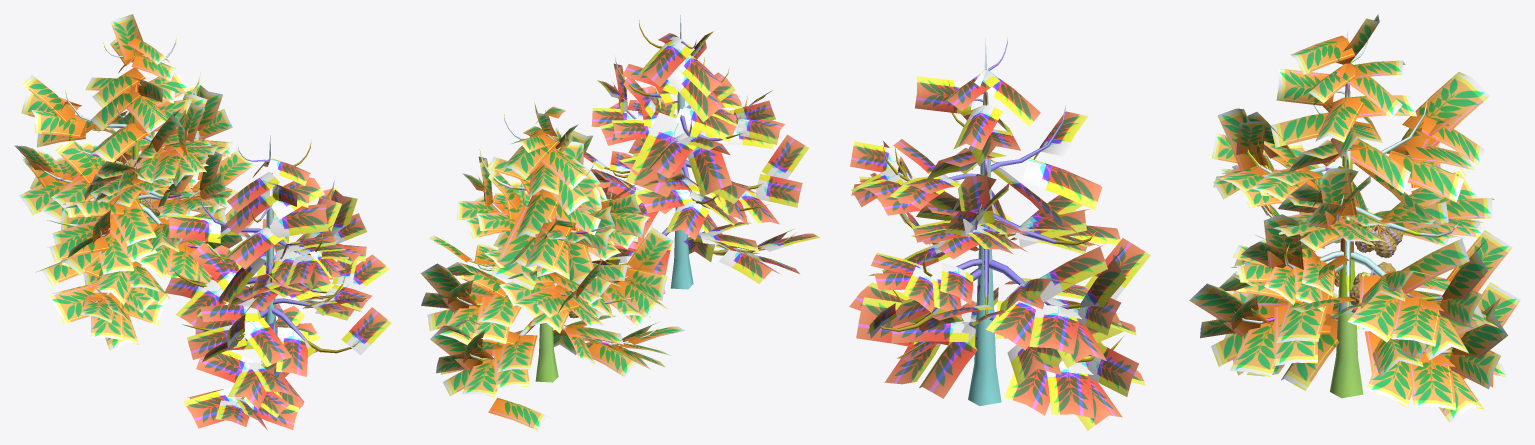
File: SM_Durian.fbx
The picture shows the model from 3 angles, left to right: view 1: azimuth 30°, elevation 25°; view 2: azimuth 150°, elevation 25°; view 3: azimuth 270°, elevation 25°; orthographic projection. The views are drawn at different scales.
Visible parts, largest first — view 1: SM_Durian_Good, SM_Durian_Bad, SM_Durian_small_leaf; view 2: SM_Durian_Good, SM_Durian_Bad, SM_Durian_small_leaf; view 3: SM_Durian_Good, SM_Durian_Bad, trai_2_2.
Part boxes in pixels (box(x1,y1,x2,y2)): SM_Durian_Good: box(14, 14, 256, 350); SM_Durian_Bad: box(164, 135, 391, 430); SM_Durian_small_leaf: box(35, 262, 83, 285); SM_Durian_Good: box(420, 102, 684, 397); SM_Durian_Bad: box(584, 15, 819, 293); SM_Durian_small_leaf: box(488, 397, 550, 430); SM_Durian_Good: box(1189, 14, 1520, 422); SM_Durian_Bad: box(849, 38, 1150, 430); trai_2_2: box(1355, 224, 1396, 258).
Size of the model in its own units: 10.39 by 13.11 by 20.76.
